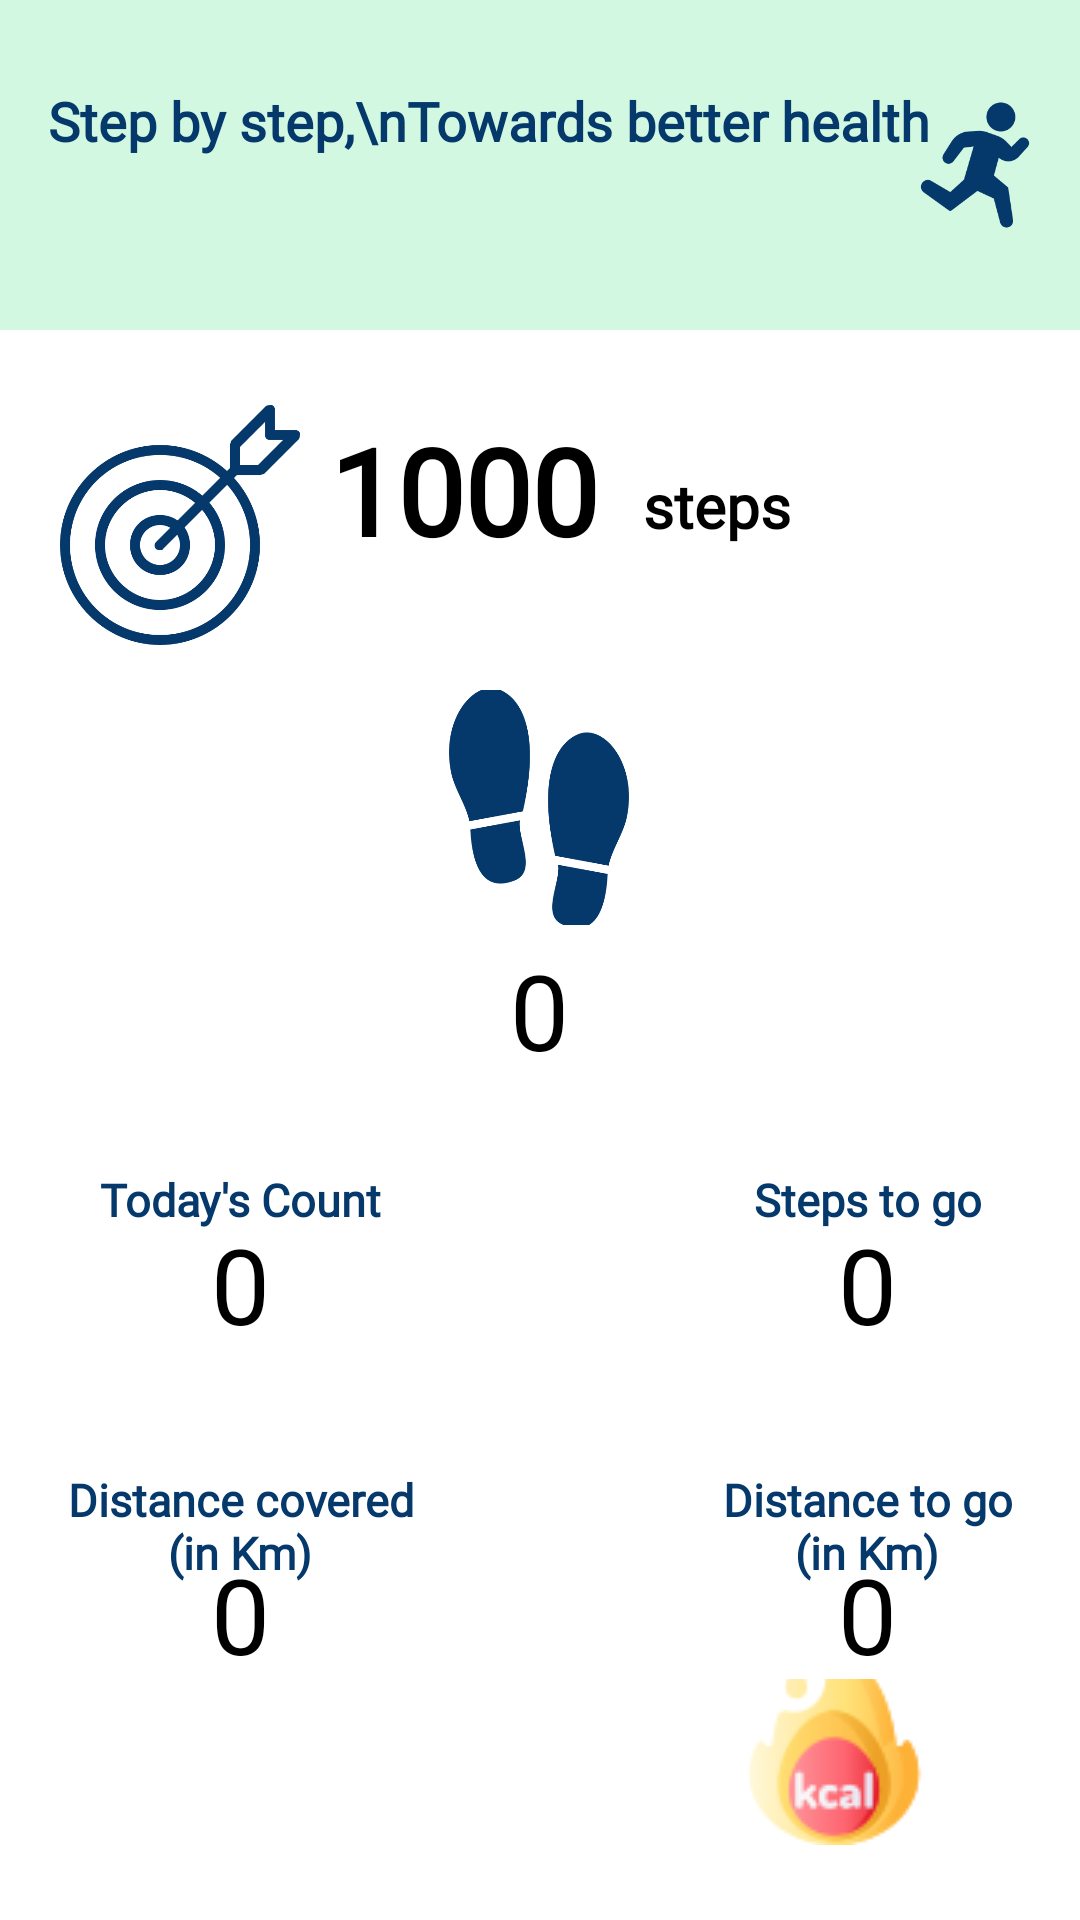

Locate icon controls on the screen. Image size 1080×1920, boxes as detection(x1, y1, x2, y2).
running: detection(903, 100, 1029, 228)
shoes: detection(449, 690, 629, 925)
target: detection(60, 405, 300, 645)
